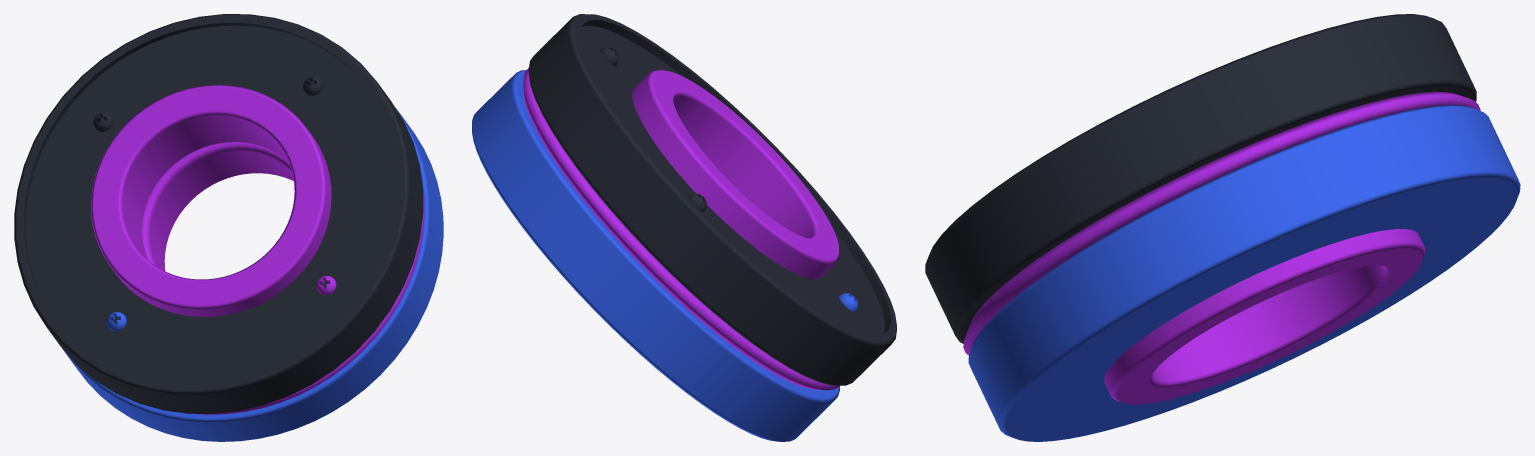
File: orbit.gltf
The picture shows the model from 3 angles, left to right: view 1: azimuth 30°, elevation 25°; view 2: azimuth 150°, elevation 25°; view 3: azimuth 270°, elevation 25°; orthographic projection. The views are drawn at different scales.
Parts seen in each view (by area): view 1: Boolean, Ellipse (×3); view 2: Ellipse (×3), Boolean; view 3: Ellipse (×3), Boolean.
Part boxes in pixels (bbox=[...]): Boolean: bbox=[14, 14, 423, 413]; Ellipse (×3): bbox=[63, 85, 443, 441]; Ellipse (×3): bbox=[472, 68, 839, 441]; Boolean: bbox=[528, 14, 896, 385]; Ellipse (×3): bbox=[963, 91, 1520, 441]; Boolean: bbox=[925, 14, 1476, 343].
Bounding box in the file's own units: 2.03 × 1.86 × 2.1.
